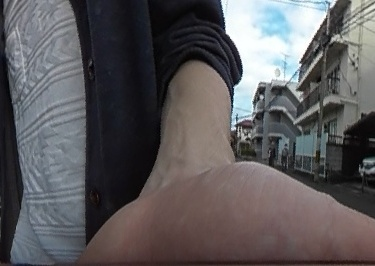person: (278, 141, 290, 169), (266, 139, 278, 164)
